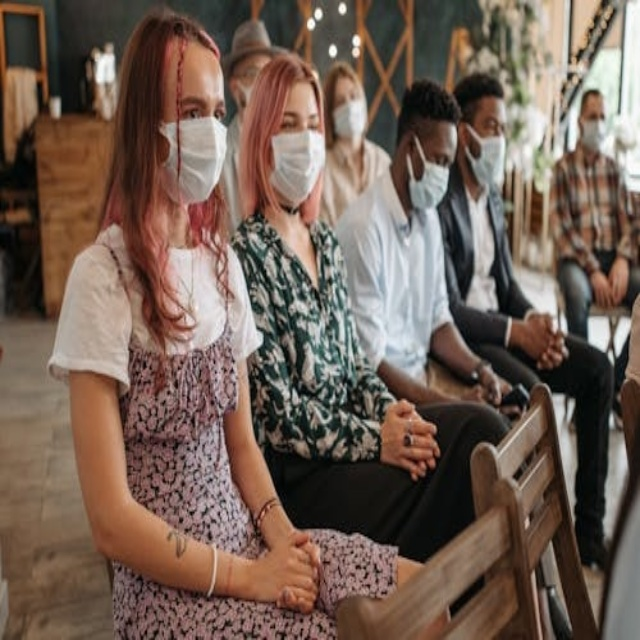Mascara: (147, 109, 229, 203), (256, 117, 328, 205), (458, 121, 517, 194), (399, 142, 451, 217), (328, 92, 371, 146), (573, 113, 609, 151)
Sin_gafas: (163, 86, 228, 130), (274, 102, 332, 132), (416, 132, 452, 171), (472, 109, 506, 136)
Sin_guantes: (242, 515, 325, 621), (378, 400, 438, 475), (588, 249, 632, 312), (521, 309, 565, 363)
